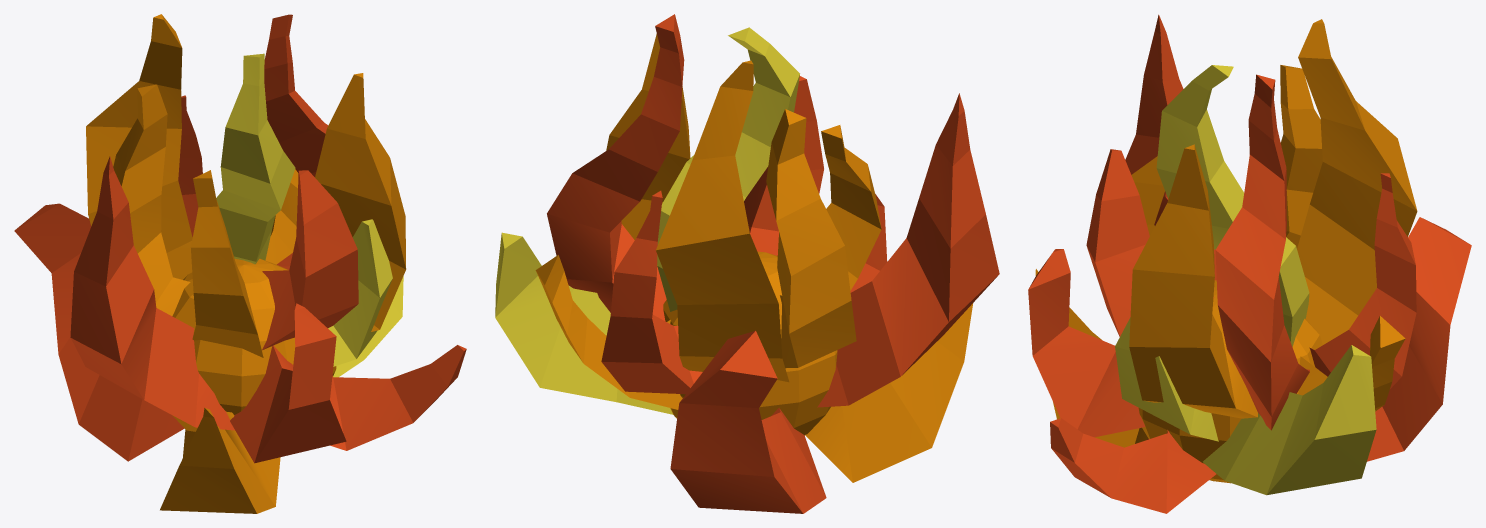
3 renders of one model, left to right at view 1: azimuth 30°, elevation 25°; view 2: azimuth 150°, elevation 25°; view 3: azimuth 270°, elevation 25°, orthographic. The views are drawn at different scales.
Parts seen in each view (by area): view 1: node_MeshObject-1520158720-PolyPaper13; view 2: node_MeshObject-1520158720-PolyPaper13; view 3: node_MeshObject-1520158720-PolyPaper13.
Boxes of the visible parts, <box> form: node_MeshObject-1520158720-PolyPaper13: <box>14,14,466,513</box>; node_MeshObject-1520158720-PolyPaper13: <box>495,14,999,513</box>; node_MeshObject-1520158720-PolyPaper13: <box>1028,14,1471,513</box>.
Bounding box in the file's own units: 0.3449 × 0.3738 × 0.3234.
